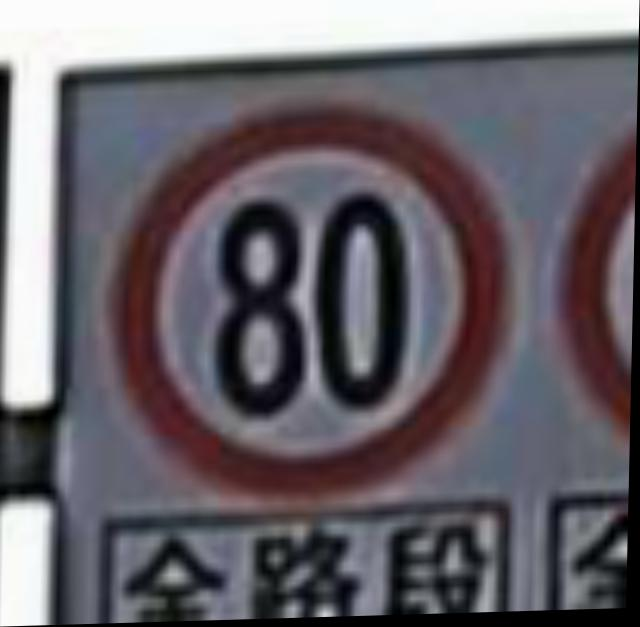limit80: (112, 91, 518, 504)
